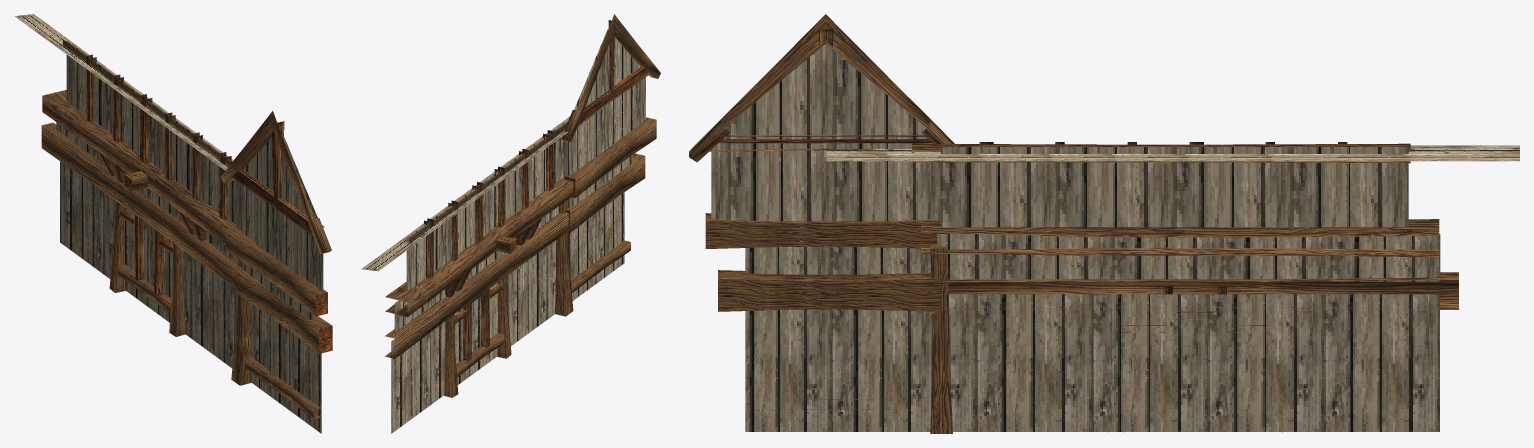
The model's file is LAKETOWN_EXTERIOR_PS_LT_ENTRANCEWALL978__GX.fbx.
The picture shows the model from 3 angles, left to right: view 1: azimuth 30°, elevation 25°; view 2: azimuth 150°, elevation 25°; view 3: azimuth 270°, elevation 25°; orthographic projection. The views are drawn at different scales.
Parts seen in each view (by area): view 1: LAKETOWN_EXTERIOR_PS_LT_ENTRANCEWALL978__GX; view 2: LAKETOWN_EXTERIOR_PS_LT_ENTRANCEWALL978__GX; view 3: LAKETOWN_EXTERIOR_PS_LT_ENTRANCEWALL978__GX.
Part boxes in pixels (left/top/right/bottom): LAKETOWN_EXTERIOR_PS_LT_ENTRANCEWALL978__GX: left=15, top=14, right=332, bottom=433; LAKETOWN_EXTERIOR_PS_LT_ENTRANCEWALL978__GX: left=361, top=14, right=660, bottom=433; LAKETOWN_EXTERIOR_PS_LT_ENTRANCEWALL978__GX: left=689, top=14, right=1519, bottom=433.
Size of the model in its own units: 10699 by 74672 by 138219.
7 materials, 7 textured.
